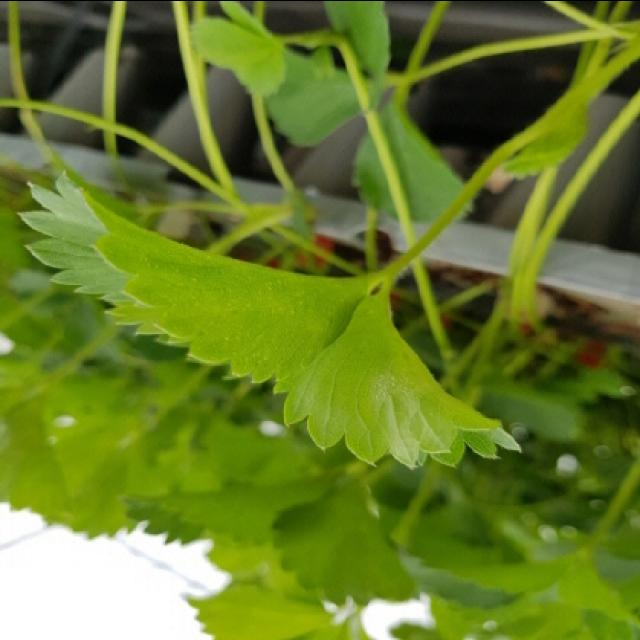Powdery Mildew Leaf: (271, 273, 521, 468)
